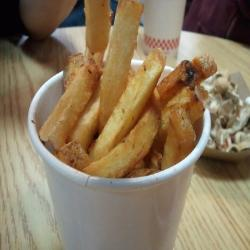fries: (60, 7, 211, 198)
